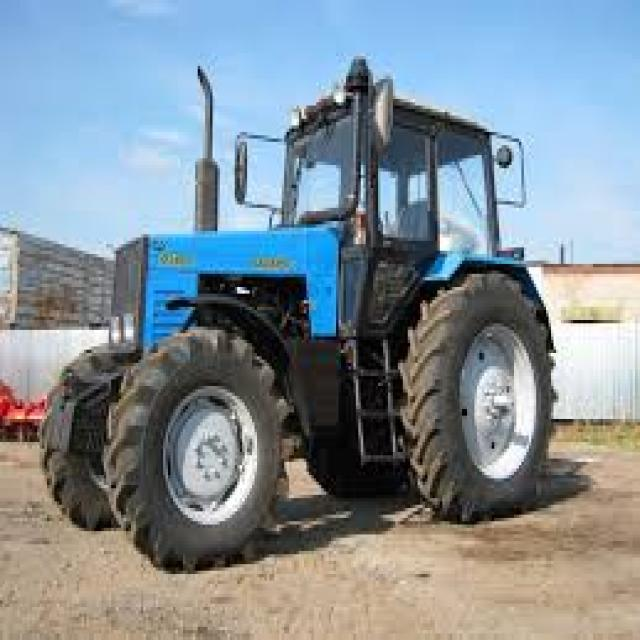Tratores - v5 YOLO V8L 2024-11-13: (44, 80, 556, 573)
